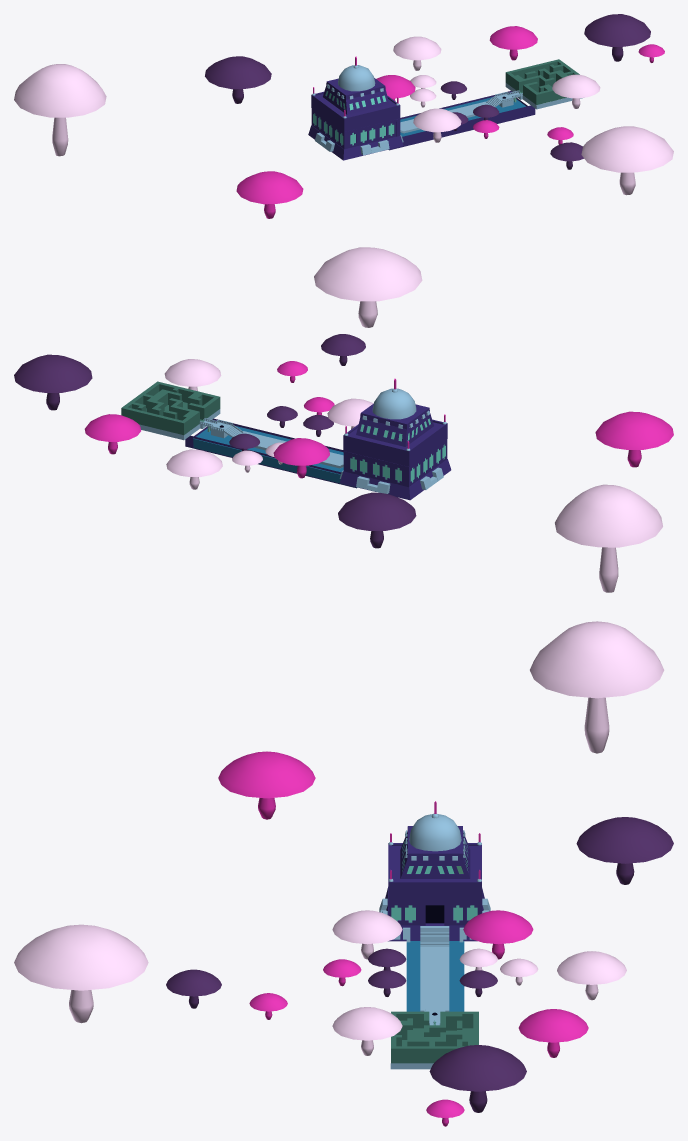
Rendered from Final_Temple_Exterior.fbx.
3 renders of one model, top to bottom at view 1: azimuth 30°, elevation 25°; view 2: azimuth 150°, elevation 25°; view 3: azimuth 270°, elevation 25°, orthographic. The views are drawn at different scales.
Visible parts, largest first — view 1: Flat_Top_Mushroom11, Flat_Top_Mushroom16, pPlane2, Flat_Top_Mushroom10, Flat_Top_Mushroom9, Flat_Top_Mushroom14, polySurface121, polySurface237, Flat_Top_Mushroom13, Flat_Top_Mushroom, Flat_Top_Mushroom15, Flat_Top_Mushroom12 (+8 smaller); view 2: Flat_Top_Mushroom11, Flat_Top_Mushroom16, pPlane2, Flat_Top_Mushroom10, Flat_Top_Mushroom14, Flat_Top_Mushroom9, polySurface121, polySurface236, Flat_Top_Mushroom15, Flat_Top_Mushroom1, Flat_Top_Mushroom12, Flat_Top_Mushroom13 (+8 smaller); view 3: Flat_Top_Mushroom11, Flat_Top_Mushroom16, Flat_Top_Mushroom14, Flat_Top_Mushroom9, Flat_Top_Mushroom10, pPlane2, polySurface121, polySurface236, Flat_Top_Mushroom15, Flat_Top_Mushroom, Flat_Top_Mushroom12, Flat_Top_Mushroom13 (+5 smaller).
Boxes of the visible parts, x1=… form: Flat_Top_Mushroom11: x1=14, y1=64, x2=106, y2=156; Flat_Top_Mushroom16: x1=581, y1=126, x2=673, y2=195; pPlane2: x1=505, y1=59, x2=579, y2=104; Flat_Top_Mushroom10: x1=236, y1=171, x2=303, y2=218; Flat_Top_Mushroom9: x1=205, y1=56, x2=271, y2=103; Flat_Top_Mushroom14: x1=584, y1=14, x2=650, y2=61; polySurface121: x1=311, y1=91, x2=400, y2=131; polySurface237: x1=389, y1=105, x2=535, y2=150; Flat_Top_Mushroom13: x1=552, y1=74, x2=600, y2=108; Flat_Top_Mushroom: x1=413, y1=108, x2=461, y2=142; Flat_Top_Mushroom15: x1=393, y1=36, x2=441, y2=70; Flat_Top_Mushroom12: x1=489, y1=26, x2=537, y2=60; Flat_Top_Mushroom11: x1=555, y1=484, x2=662, y2=592; Flat_Top_Mushroom16: x1=314, y1=247, x2=422, y2=327; pPlane2: x1=121, y1=381, x2=220, y2=435; Flat_Top_Mushroom10: x1=595, y1=411, x2=673, y2=467; Flat_Top_Mushroom14: x1=14, y1=354, x2=92, y2=410; Flat_Top_Mushroom9: x1=338, y1=492, x2=416, y2=548; polySurface121: x1=343, y1=419, x2=447, y2=466; polySurface236: x1=193, y1=426, x2=357, y2=487; Flat_Top_Mushroom15: x1=166, y1=449, x2=222, y2=489; Flat_Top_Mushroom1: x1=273, y1=438, x2=329, y2=478; Flat_Top_Mushroom12: x1=84, y1=414, x2=141, y2=454; Flat_Top_Mushroom13: x1=164, y1=359, x2=221, y2=391; Flat_Top_Mushroom11: x1=530, y1=621, x2=664, y2=753; Flat_Top_Mushroom16: x1=14, y1=924, x2=148, y2=1023; Flat_Top_Mushroom14: x1=429, y1=1045, x2=526, y2=1112; Flat_Top_Mushroom9: x1=576, y1=817, x2=673, y2=884; Flat_Top_Mushroom10: x1=218, y1=751, x2=315, y2=819; pPlane2: x1=391, y1=1011, x2=478, y2=1063; polySurface121: x1=388, y1=843, x2=481, y2=901; polySurface236: x1=406, y1=941, x2=464, y2=1011; Flat_Top_Mushroom15: x1=557, y1=951, x2=626, y2=1000; Flat_Top_Mushroom: x1=332, y1=910, x2=402, y2=959; Flat_Top_Mushroom12: x1=518, y1=1009, x2=588, y2=1057; Flat_Top_Mushroom13: x1=332, y1=1007, x2=402, y2=1055.
Size of what is drawn, in the model's own units: 331 by 52.88 by 225.
